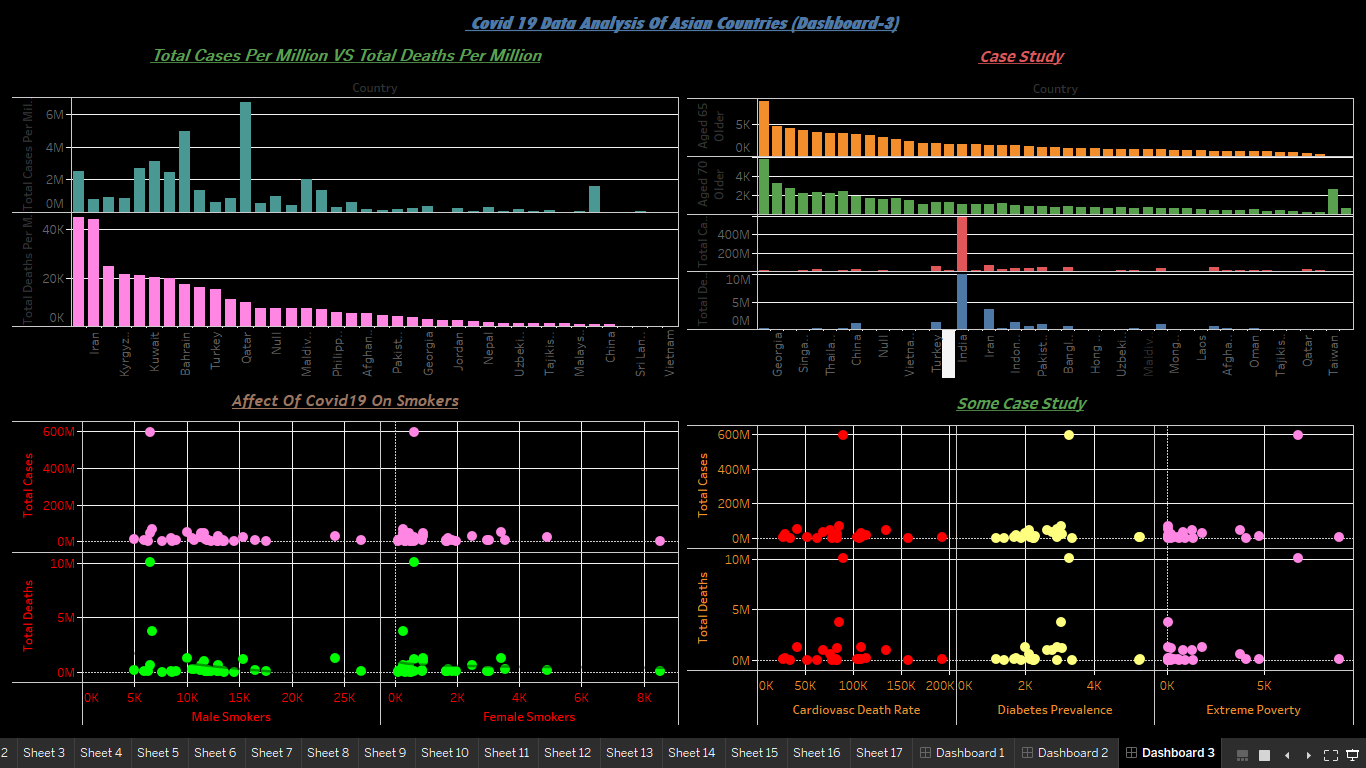

What the dashboard file says about the page in this screenshot:
{"tool":"tableau","page":{"name":"Dashboard 3","canvas":[1000,1000],"units":"permille","ordinal":2},"visuals":[{"type":"worksheet","box":[0,0,1000,1000]},{"type":"worksheet","param":"vert","box":[6.9,12.7,986.1,974.7]},{"type":"worksheet","box":[6.9,12.7,986.1,45.9]},{"type":"worksheet","box":[6.9,58.6,986.1,928.8]},{"type":"worksheet","title":"Sheet 5","mark":"Automatic","rows":["total_cases_per_million","total_deaths_per_million"],"cols":["country"],"box":[6.9,58.6,493.1,464.4]},{"type":"worksheet","title":"Sheet 9","mark":"Automatic","rows":["aged_65_older","aged_70_older","total_cases","total_deaths"],"cols":["country"],"box":[500,58.6,493.1,464.4]},{"type":"worksheet","title":"Sheet 7","mark":"Circle","rows":["total_cases","total_deaths"],"cols":["male_smokers","female_smokers"],"box":[6.9,522.9,493.1,464.4]},{"type":"worksheet","title":"Sheet 11","mark":"Circle","rows":["total_cases","total_deaths"],"cols":["cardiovasc_death_rate","diabetes_prevalence","extreme_poverty"],"box":[500,523,493.1,464.4]}]}

Visuals, with their boxes on the dashboard's canvas, which has no fixed pixel size, in thousandths of its width and height (x1, y1, x2, y2). These are canvas units, not pixel positions in the 1366x768 screenshot, which may show the page scaled, cropped or inside an application window:
worksheet: locate(0, 0, 1000, 1000)
worksheet: locate(7, 13, 993, 987)
worksheet: locate(7, 13, 993, 59)
worksheet: locate(7, 59, 993, 987)
"Sheet 5" worksheet: locate(7, 59, 500, 523)
"Sheet 9" worksheet: locate(500, 59, 993, 523)
"Sheet 7" worksheet (Circle marks): locate(7, 523, 500, 987)
"Sheet 11" worksheet (Circle marks): locate(500, 523, 993, 987)
